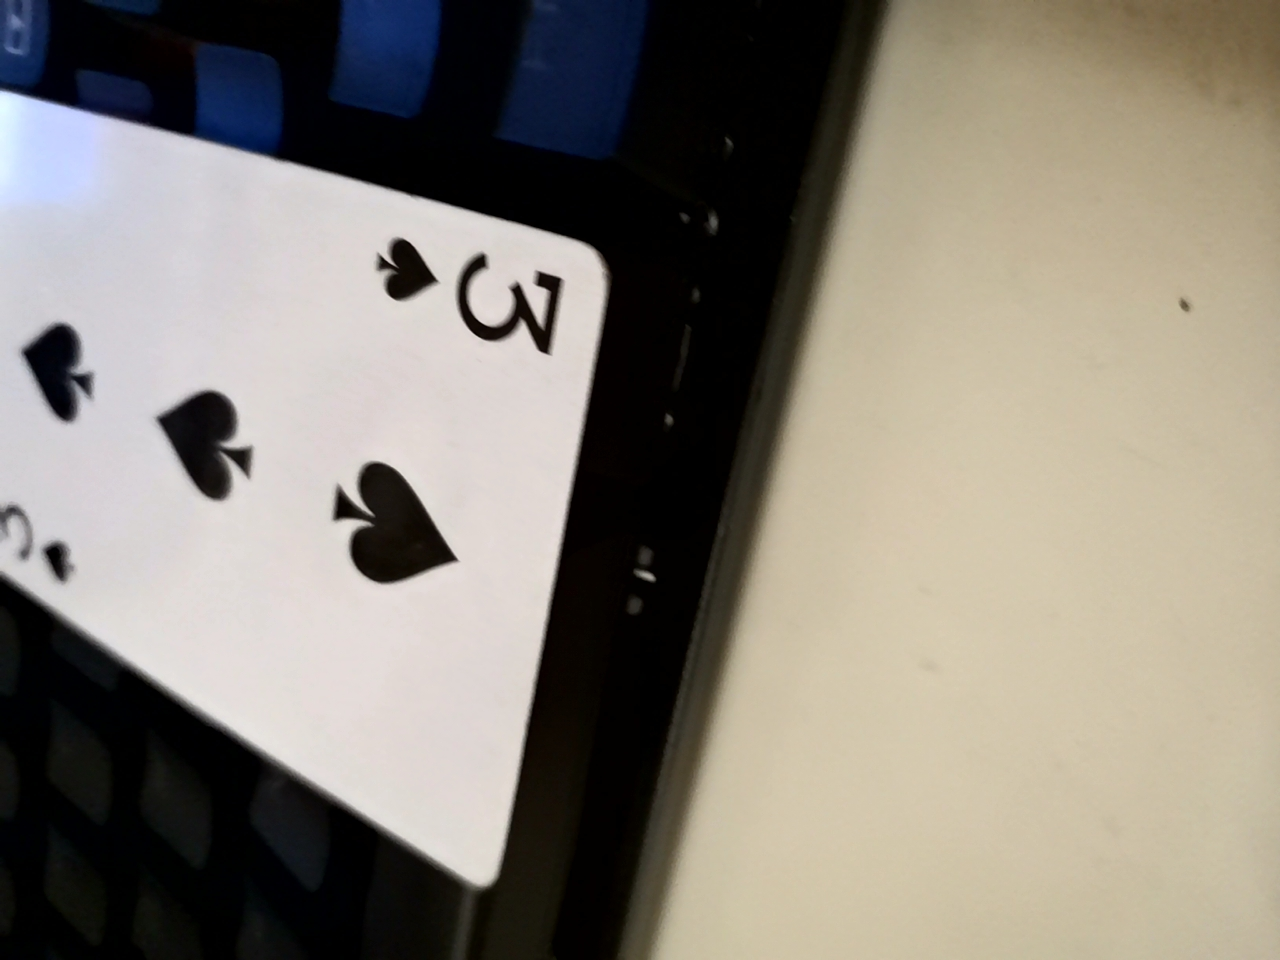ht 3: (8, 38, 559, 834)
